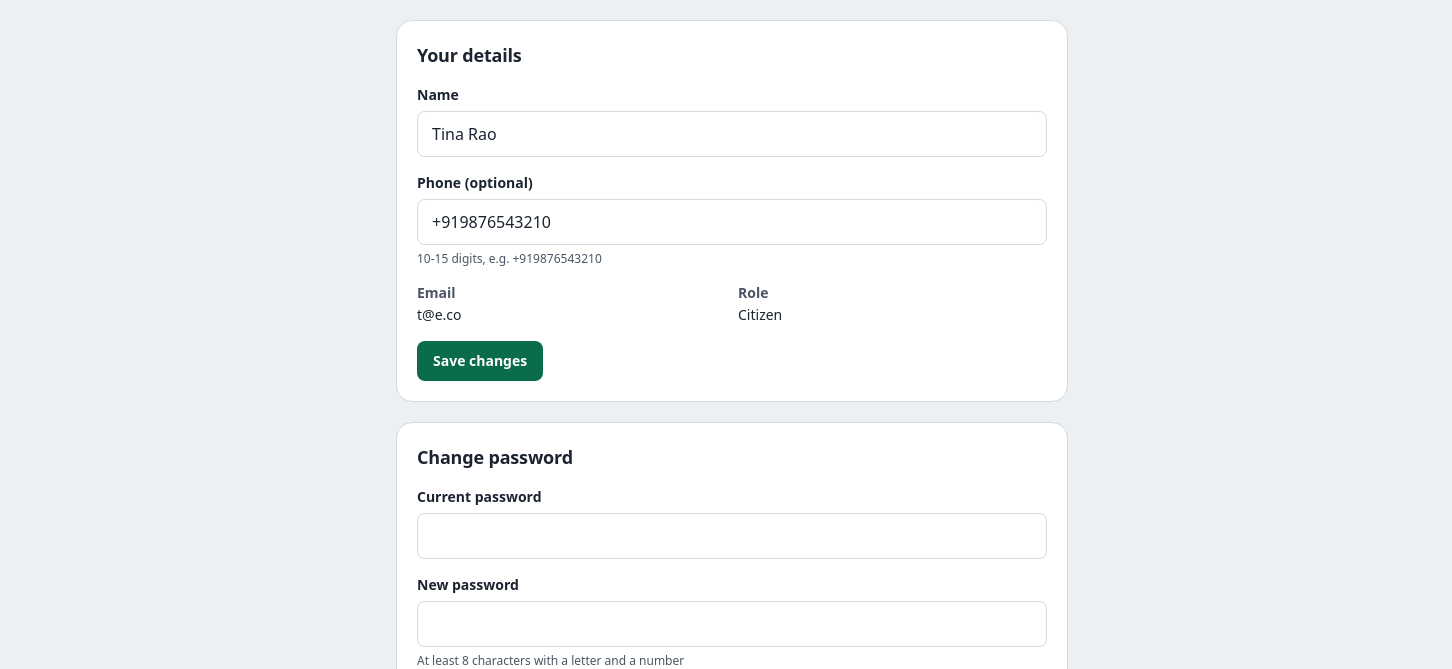
Test: profile page › changes the password
In the password field labelled "Current password": (732, 536) [417, 512, 1047, 558], type "Old12345"
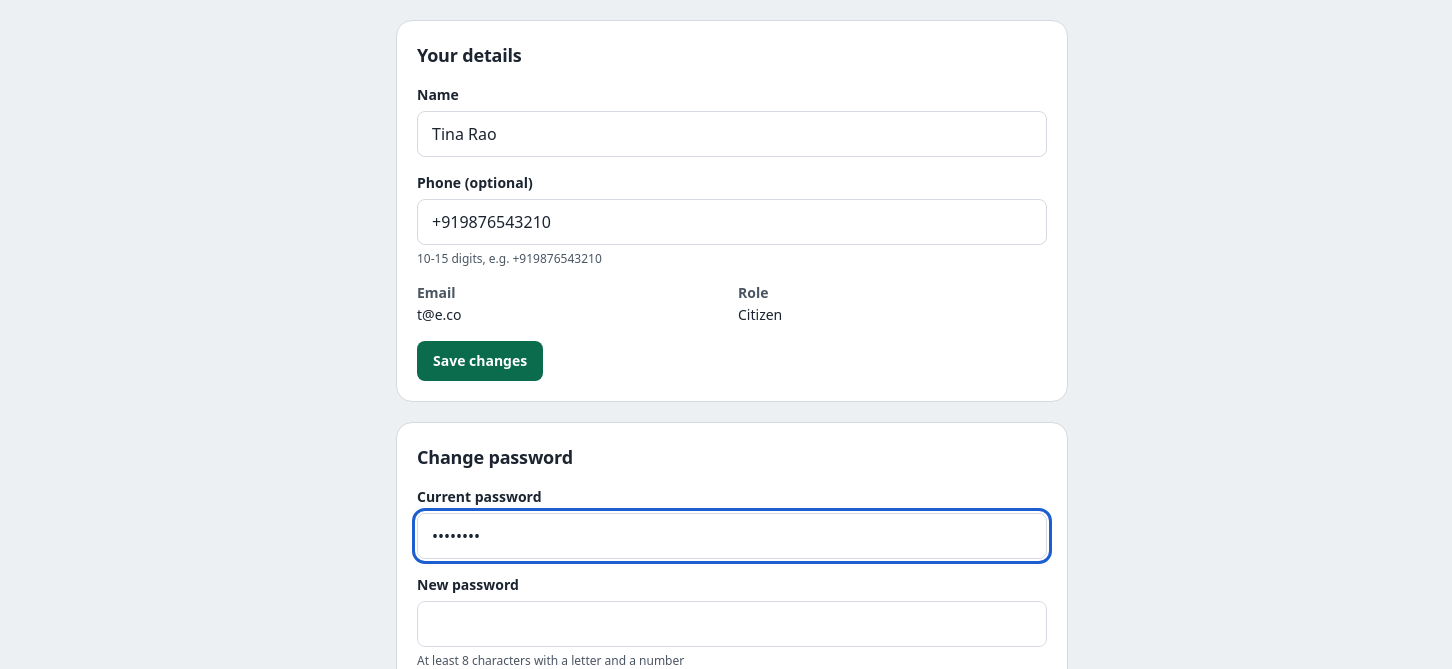
In the password field labelled "New password": (732, 624) [417, 600, 1047, 646], type "Newer12345"
(page scrolled)
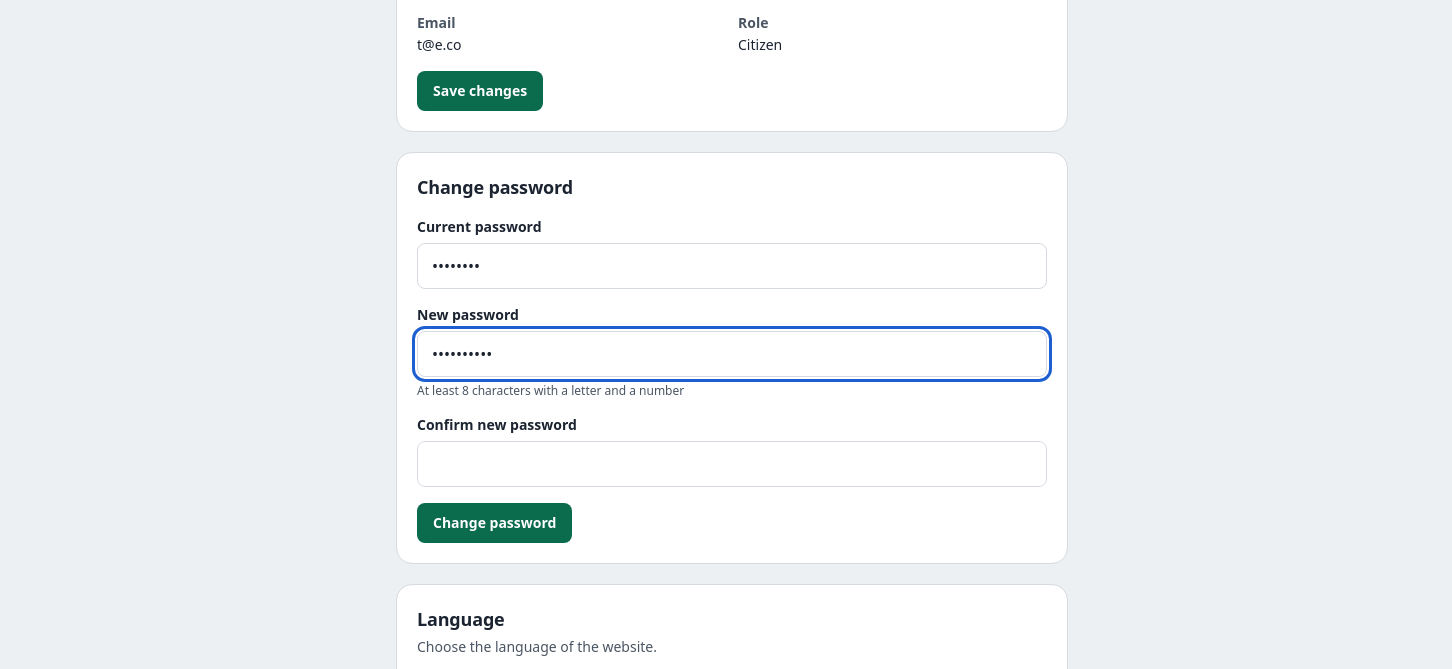
In the password field labelled "Confirm new password": (732, 464) [417, 440, 1047, 486], type "Newer12345"
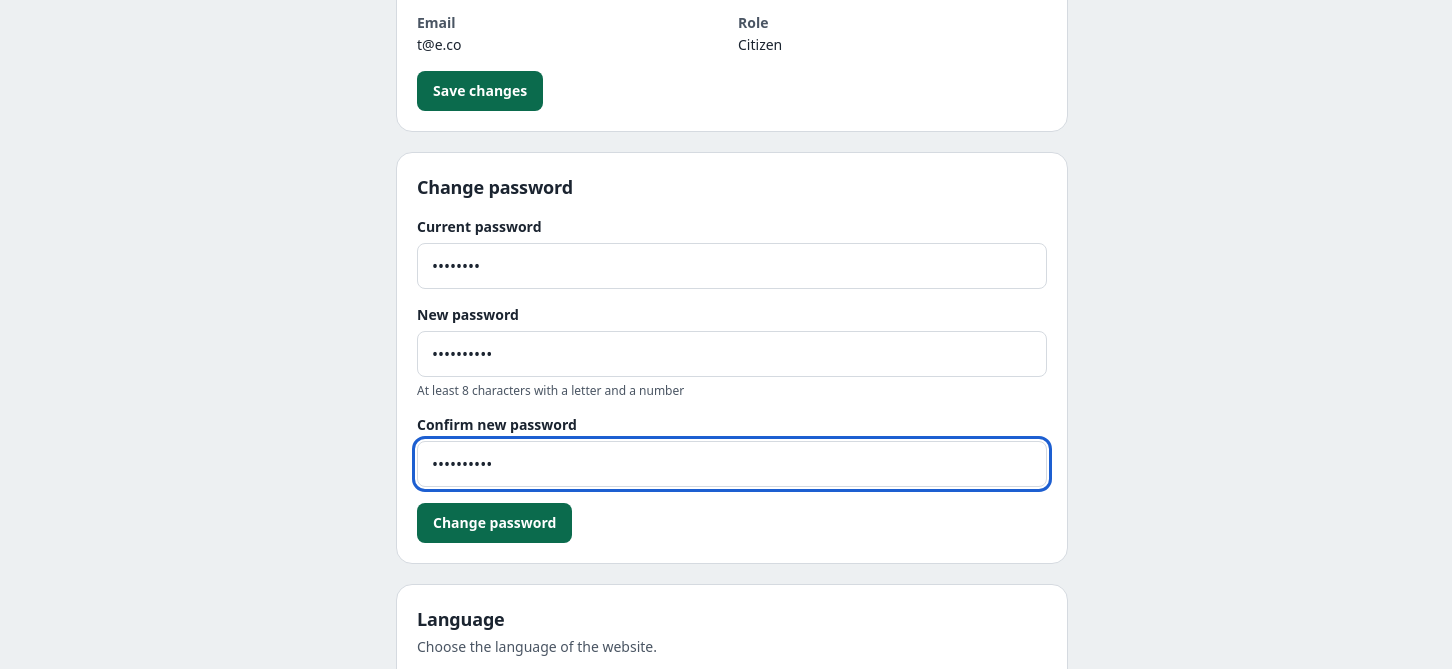
Click the button "Change password": (495, 522) [417, 502, 572, 542]
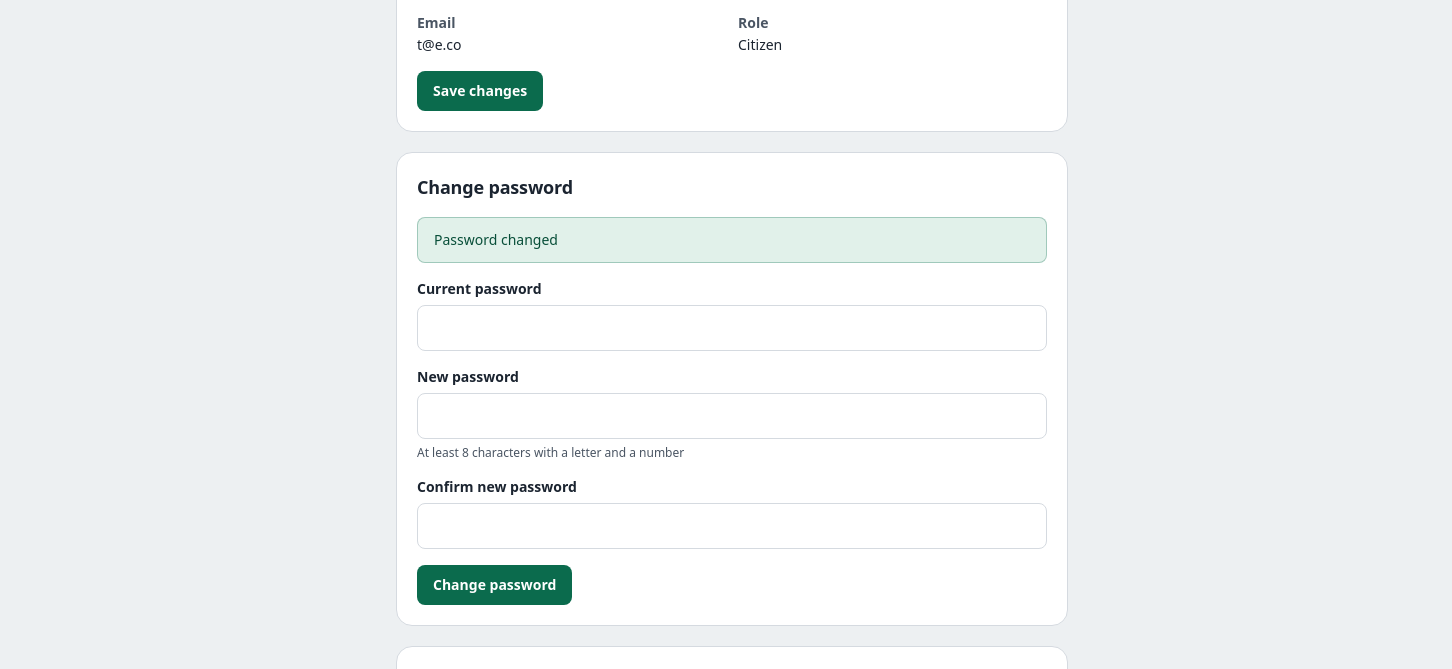
expect the text "Password changed" is shown: met, box [417, 216, 1047, 262]
